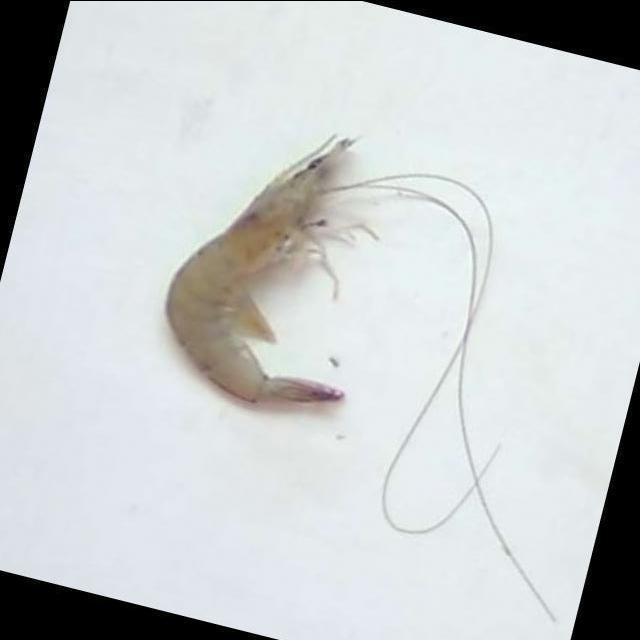shrimp: (165, 136, 373, 404)
